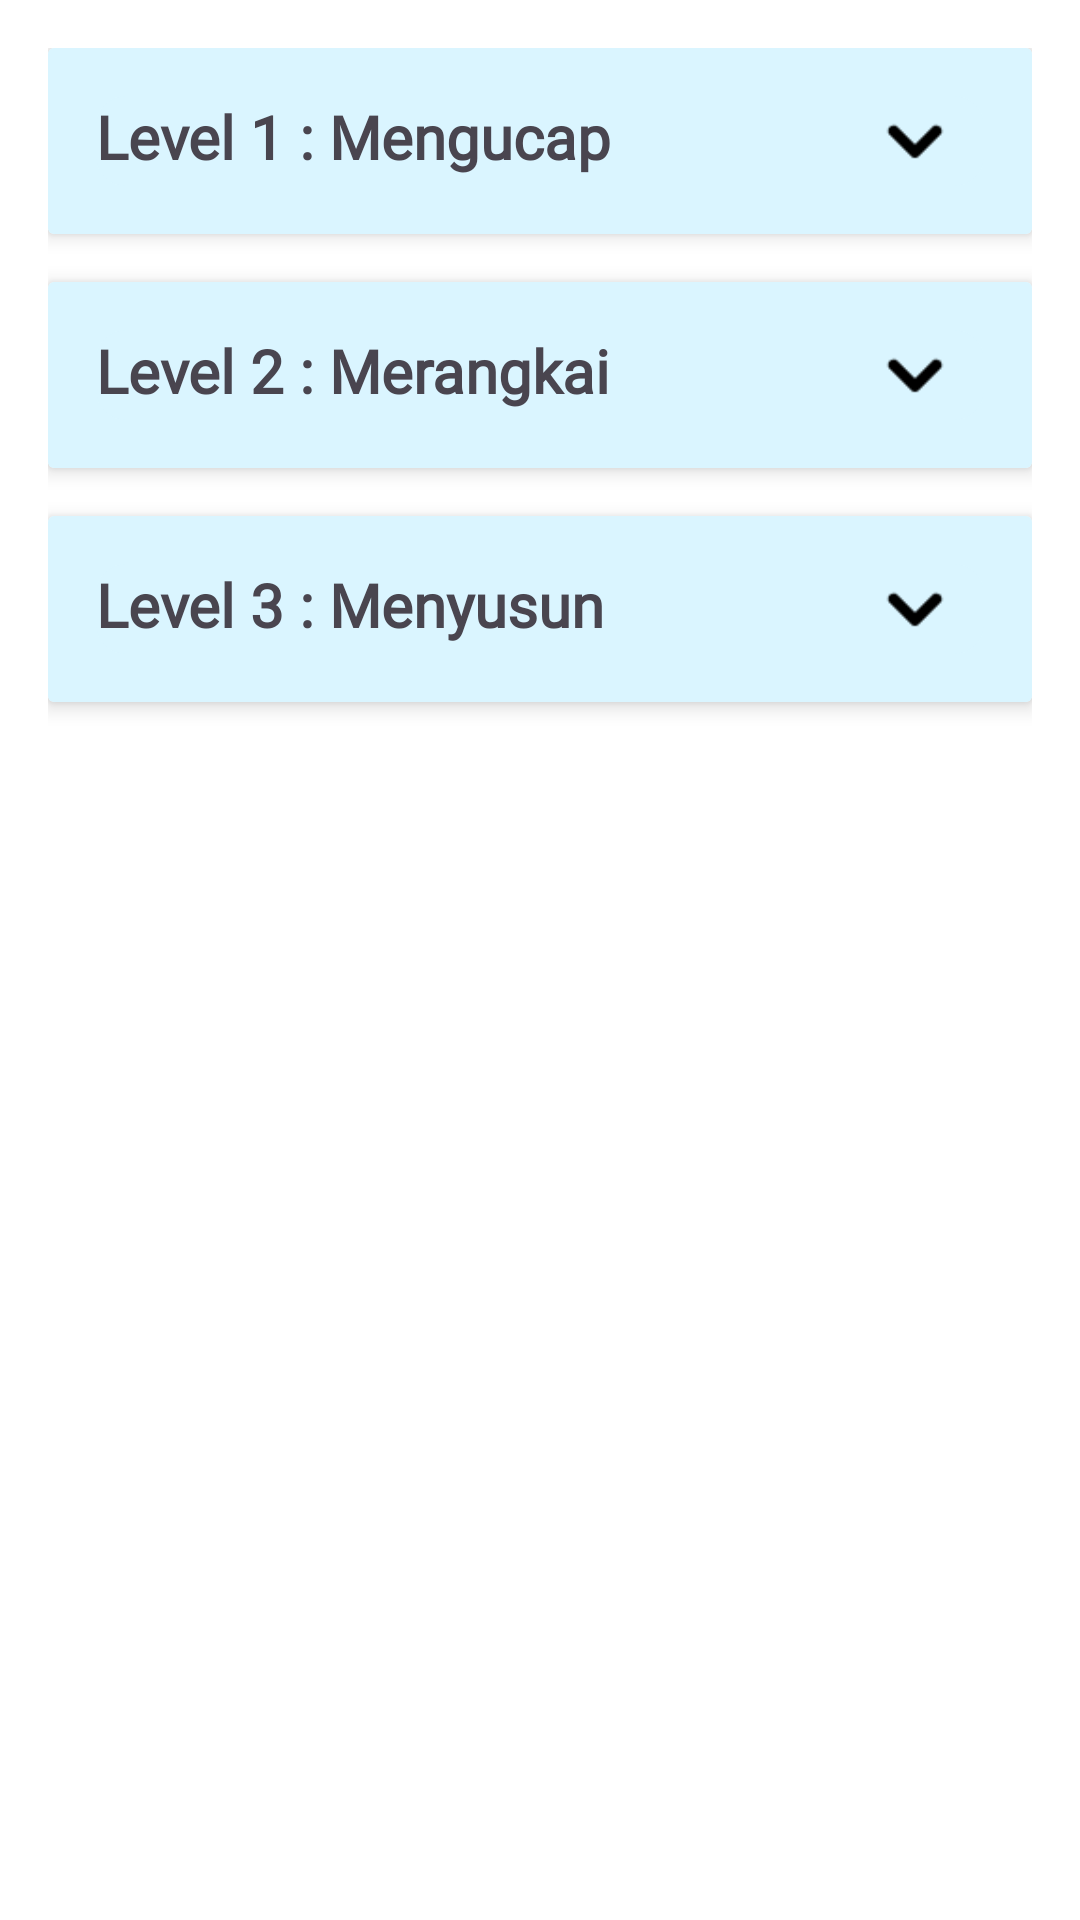

Locate icon controls on the screen. Image size 1080w x 1920h, boxes as (left=x1, top=y1, right=x2, bottom=y2).
dropdown level: (left=887, top=124, right=943, bottom=159), (left=887, top=358, right=943, bottom=393), (left=887, top=592, right=943, bottom=627)
